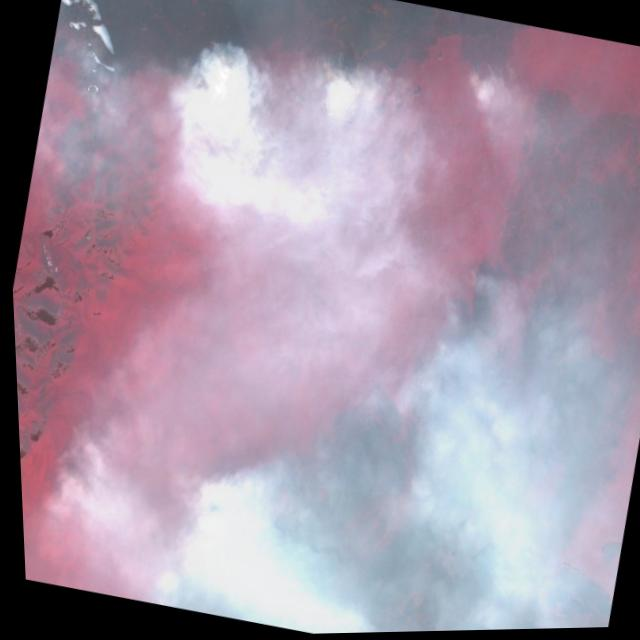fire: (127, 0, 521, 200), (128, 409, 310, 630)
